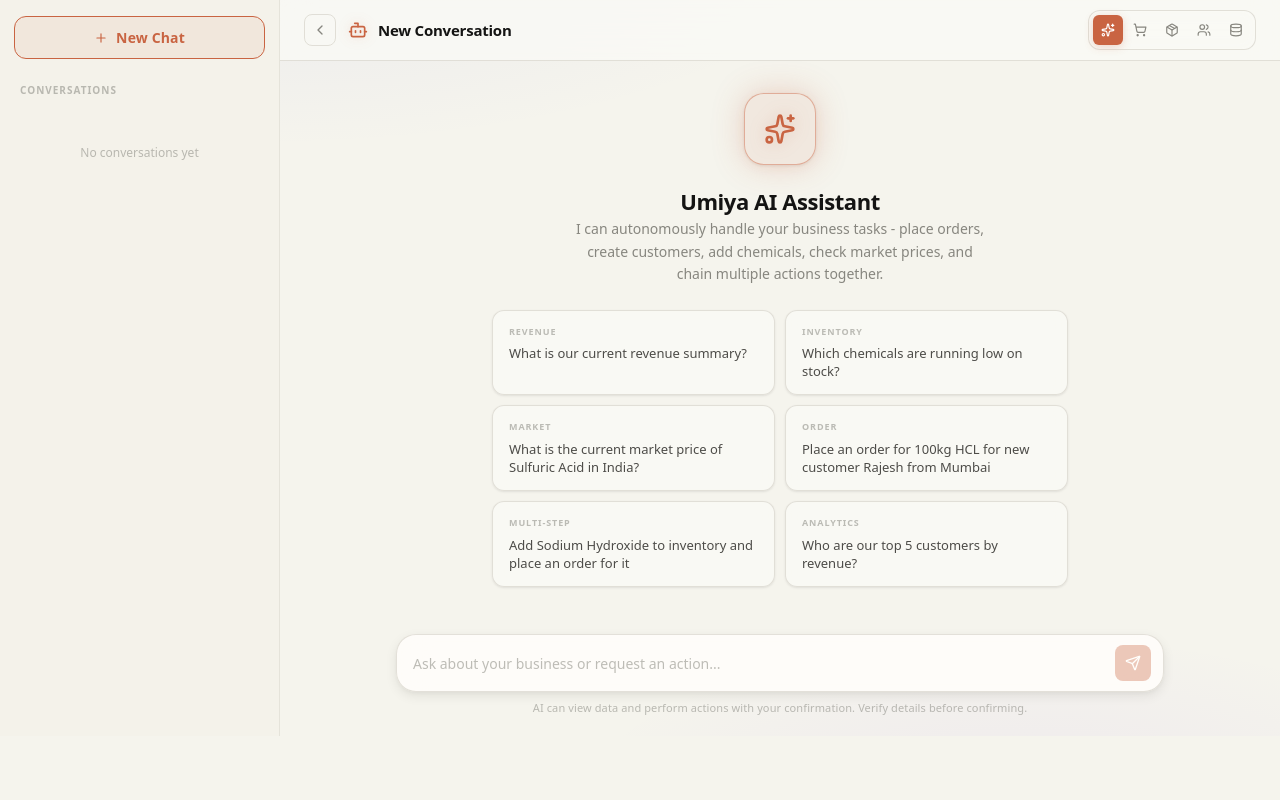
Test: AIAssistant › sends message and displays response
expect the heading "Umiya AI Assistant" is shown: met, box [680,186,880,216]
In the text box with placeholder "Ask about your business or request an action...": (759, 664) [413,647,1105,680], type "Hello AI"
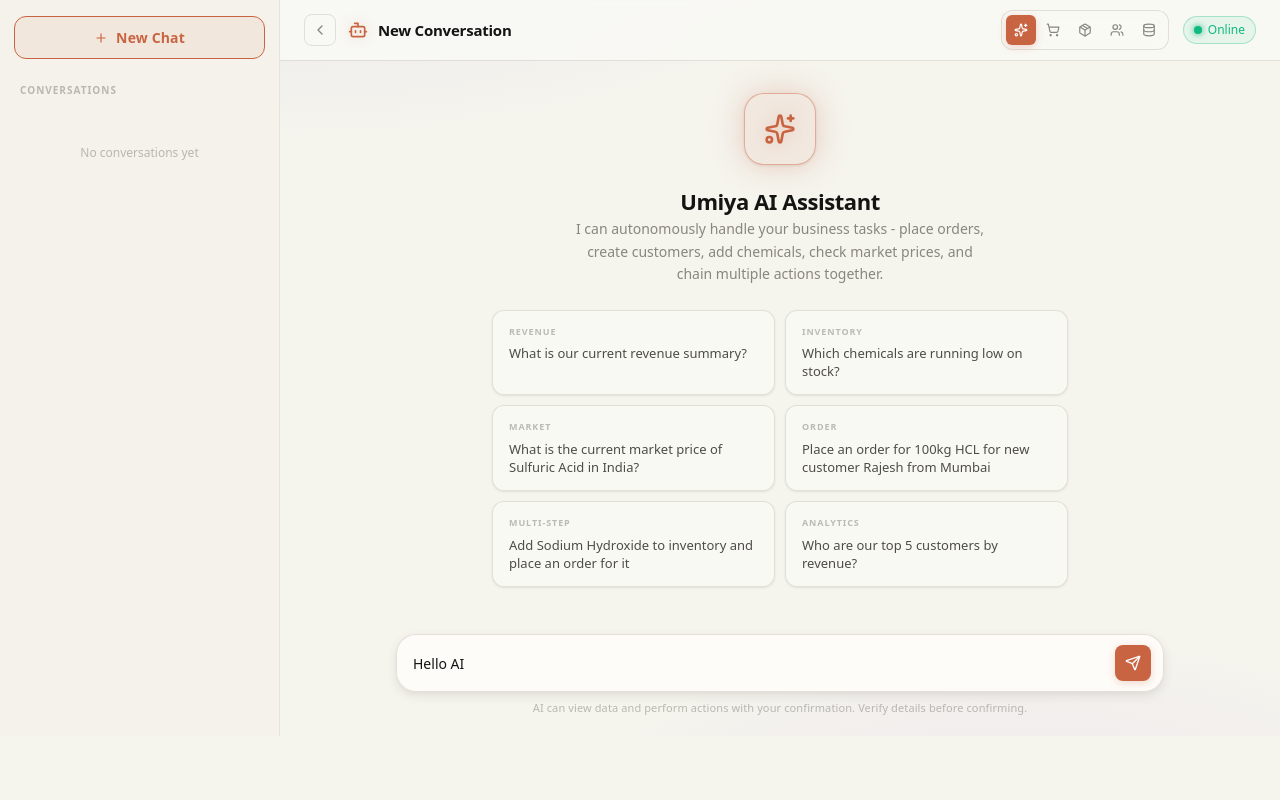
Press Enter in the text box with placeholder "Ask about your business or request an action...", box [413,647,1105,680]
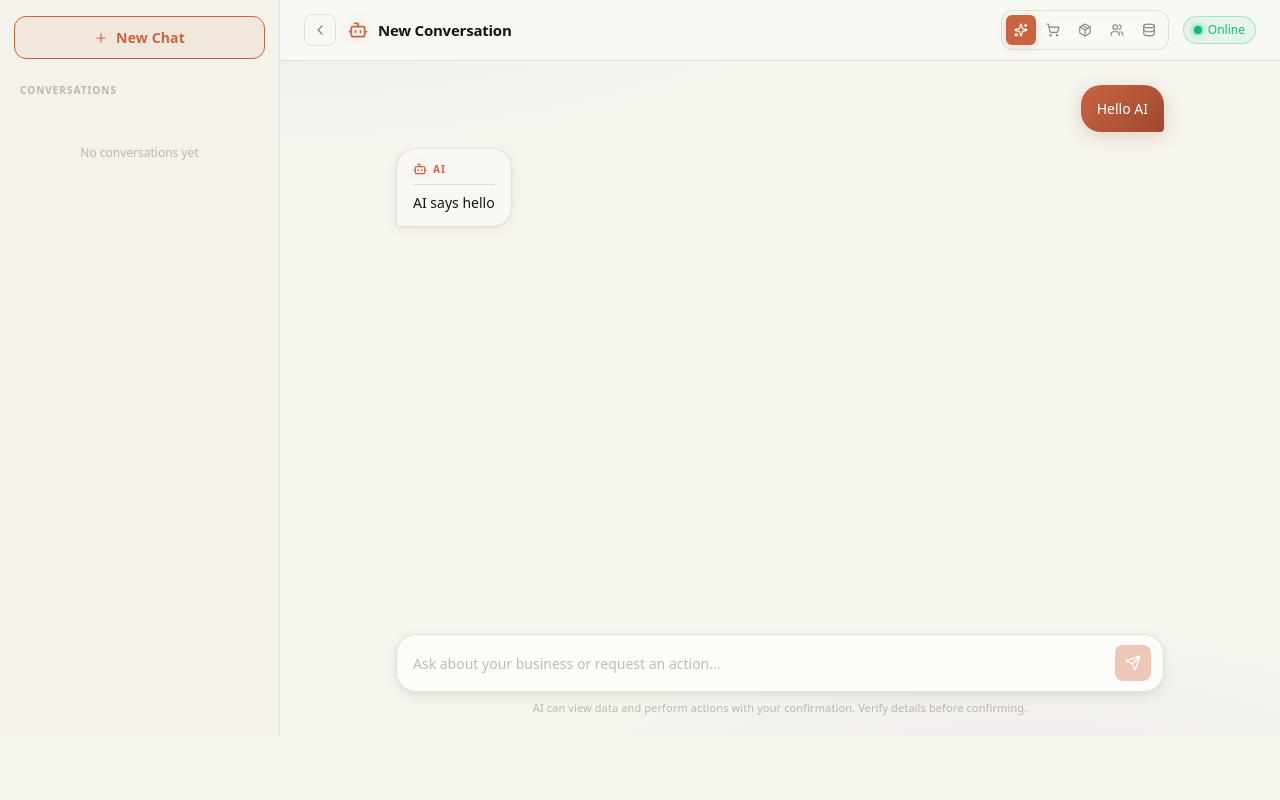
expect the text "AI says hello" is shown: met, box [413,191,495,214]
